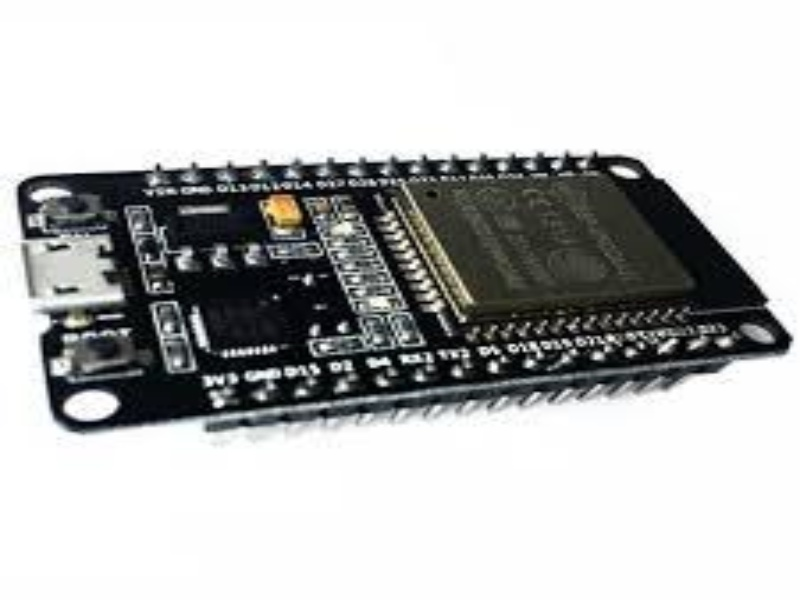esp32: (14, 129, 759, 377)
